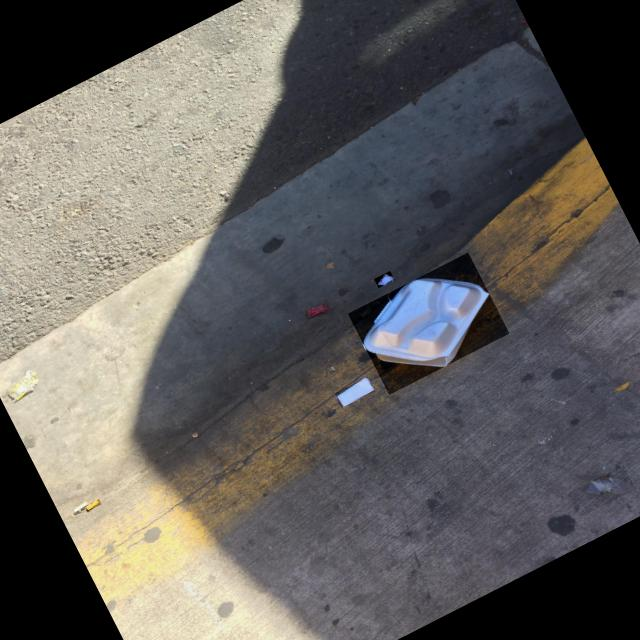Cigarette: (74, 502, 90, 513), (86, 500, 100, 511)
Food container: (363, 278, 489, 367)
Other plastic: (306, 303, 327, 317)
Plastic film: (578, 478, 635, 514)
Unlabeled litter: (337, 378, 373, 407), (377, 275, 394, 286)
